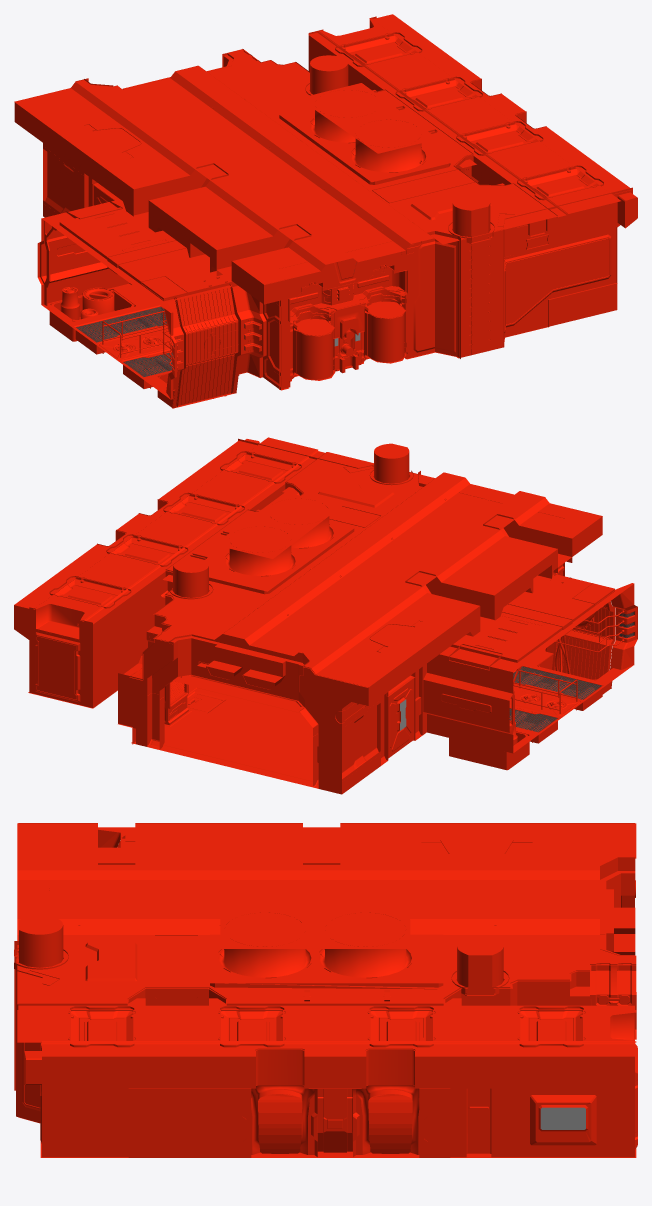
File: Space_Ship_1_Interior_room_v1mr.FBX
3 renders of one model, top to bottom at view 1: azimuth 30°, elevation 25°; view 2: azimuth 150°, elevation 25°; view 3: azimuth 270°, elevation 25°, orthographic. The views are drawn at different scales.
Parts seen in each view (by area): view 1: Room_ceiling_v1mr, Room_DMD_v1mr, Room_junction_v1mr, Room_SMD_v1mr, Room_junction_wall_v1mr, Room_DMD_wall_v1mr, Room_junction_grill_v1mr, Room_entrance_v1mr; view 2: Room_ceiling_v1mr, Room_DMD_v1mr, Room_junction_v1mr, Room_junction_wall_v1mr, Room_entrance_v1mr, Room_floor_v1mr, Room_DMD_wall_v1mr, Room_junction_grill_v1mr; view 3: Room_ceiling_v1mr, Room_DMD_wall_v1mr, Room_DMD_v1mr, Room_entrance_v1mr, Room_junction_v1mr, Room_displays_v1mr, Room_junction_wall_v1mr.
Boxes of the visible parts, x1,y1,x2,y2 form: Room_ceiling_v1mr: (14, 49, 557, 284); Room_DMD_v1mr: (242, 16, 637, 347); Room_junction_v1mr: (37, 199, 266, 408); Room_SMD_v1mr: (279, 229, 504, 389); Room_junction_wall_v1mr: (14, 78, 311, 389); Room_DMD_wall_v1mr: (373, 14, 632, 282); Room_junction_grill_v1mr: (76, 307, 172, 376); Room_entrance_v1mr: (84, 50, 421, 271); Room_ceiling_v1mr: (153, 443, 602, 687); Room_DMD_v1mr: (28, 437, 373, 744); Room_junction_v1mr: (423, 553, 637, 770); Room_junction_wall_v1mr: (299, 510, 602, 794); Room_entrance_v1mr: (118, 492, 551, 786); Room_floor_v1mr: (131, 685, 422, 788); Room_DMD_wall_v1mr: (14, 440, 256, 639); Room_junction_grill_v1mr: (509, 666, 601, 732); Room_ceiling_v1mr: (14, 823, 636, 1004); Room_DMD_wall_v1mr: (42, 1041, 634, 1157); Room_DMD_v1mr: (16, 963, 637, 1157); Room_entrance_v1mr: (78, 857, 635, 955); Room_junction_v1mr: (98, 827, 340, 853); Room_displays_v1mr: (540, 1107, 585, 1129); Room_junction_wall_v1mr: (18, 823, 635, 897).
Size of the model in its own units: 21.31 by 7.7 by 21.04.
